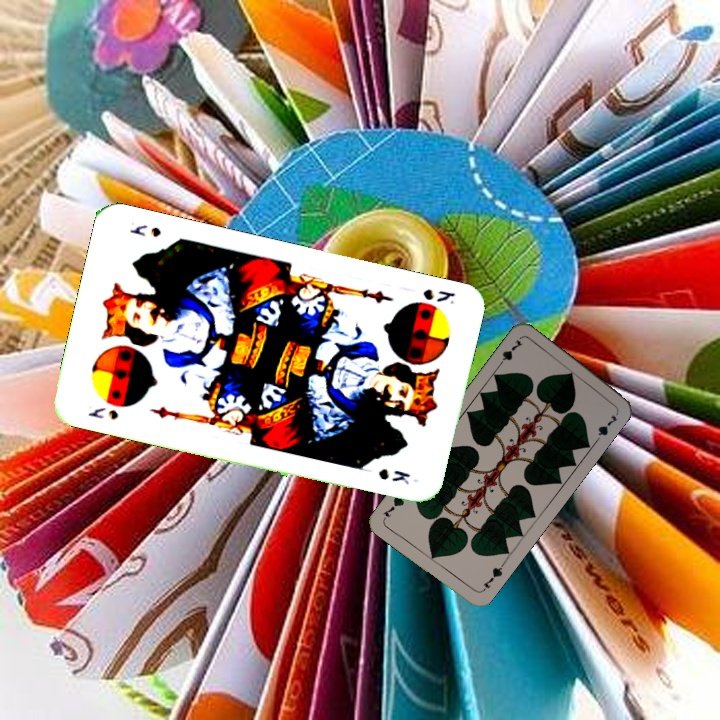G7: (493, 335, 525, 370), (477, 560, 507, 594)
SK: (419, 284, 458, 307), (84, 403, 121, 423)
